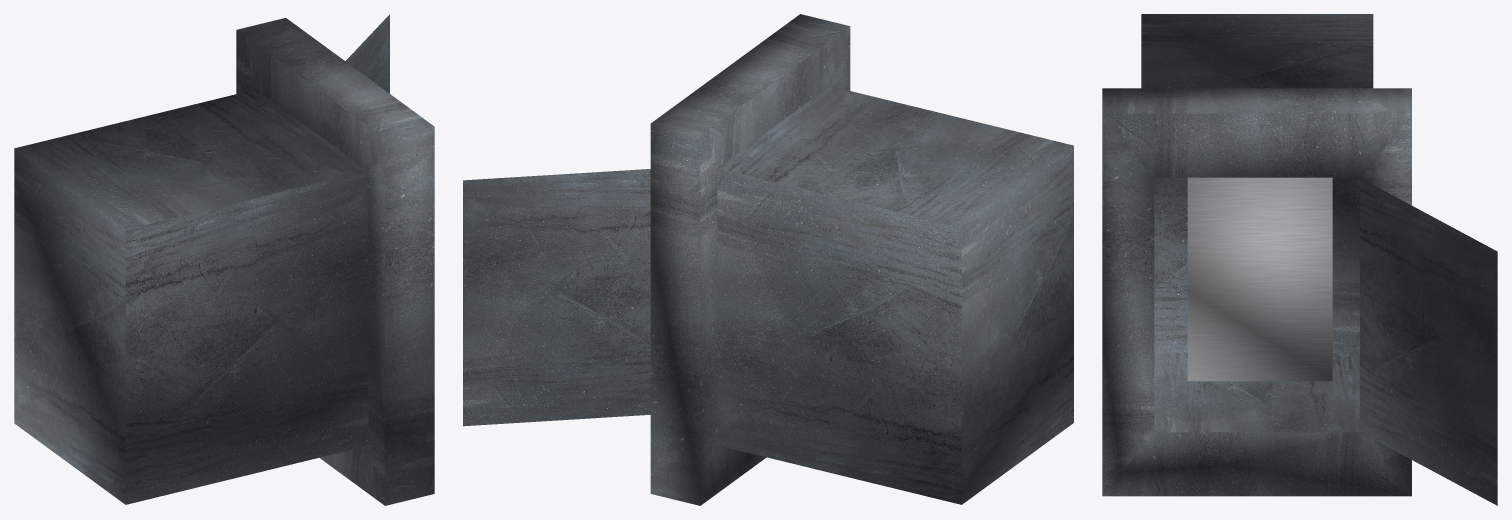
Rendered from Caja Fusibles.fbx.
3 renders of one model, left to right at view 1: azimuth 30°, elevation 25°; view 2: azimuth 150°, elevation 25°; view 3: azimuth 270°, elevation 25°, orthographic. The views are drawn at different scales.
Parts seen in each view (by area): view 1: Caja; view 2: Caja; view 3: Caja, Fusibles.
Boxes of the visible parts, x1,y1,x2,y2 form: Caja: (14, 14, 434, 505); Caja: (463, 14, 1073, 505); Caja: (1102, 14, 1497, 505); Fusibles: (1187, 177, 1332, 381).
Bounding box in the file's own units: 1044 × 842 × 788.
